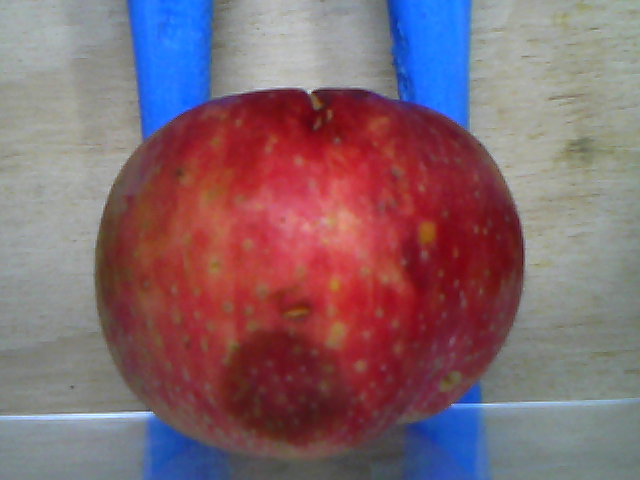bruise: (224, 330, 356, 447)
